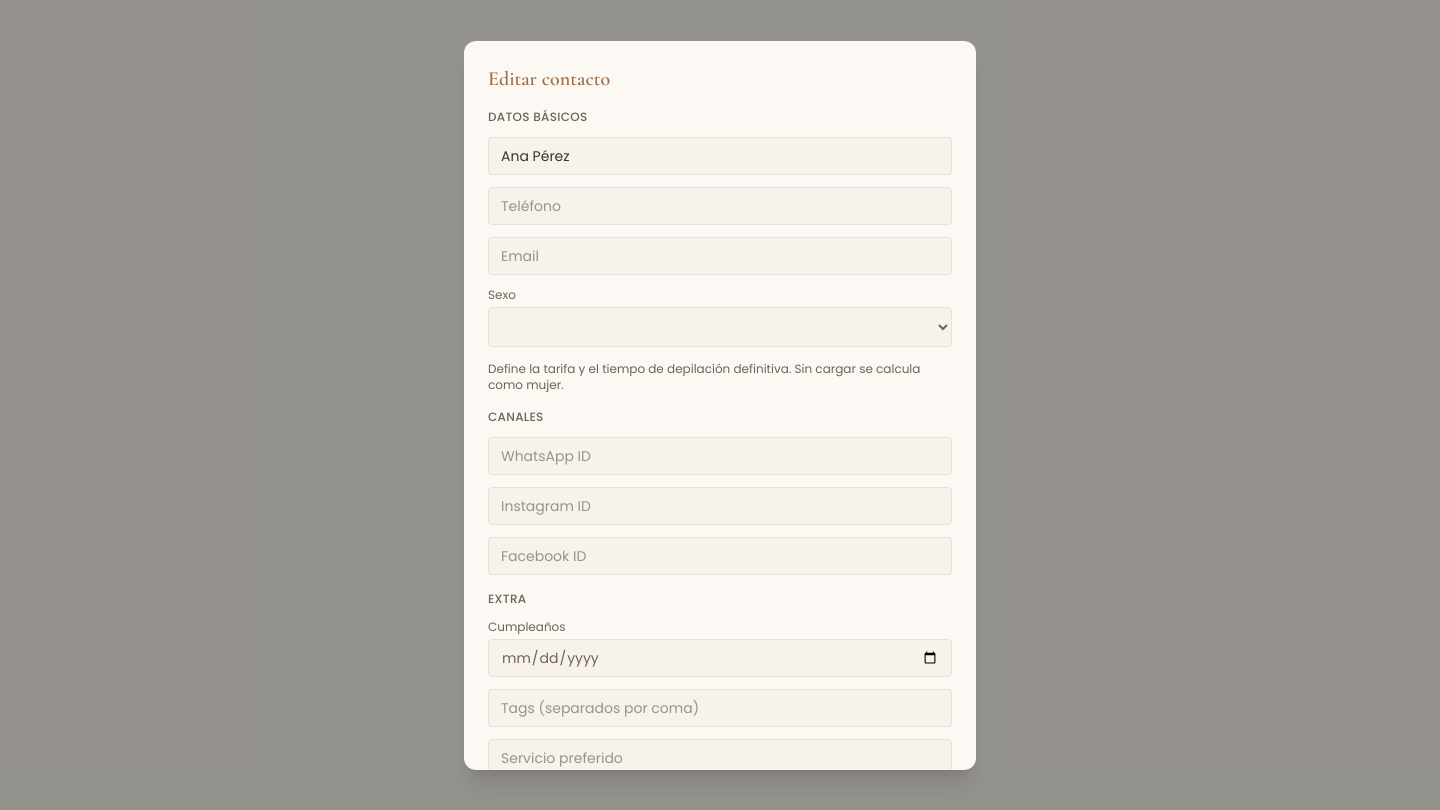
Test: ContactFormModal — aviso del número › WhatsApp ID con 15: muestra el aviso y no guarda todavía
Type "1530317884" into the field with placeholder "WhatsApp ID".
click(720, 456); type("1530317884")  # box x1=488 y1=436 x2=952 y2=474
(page scrolled)
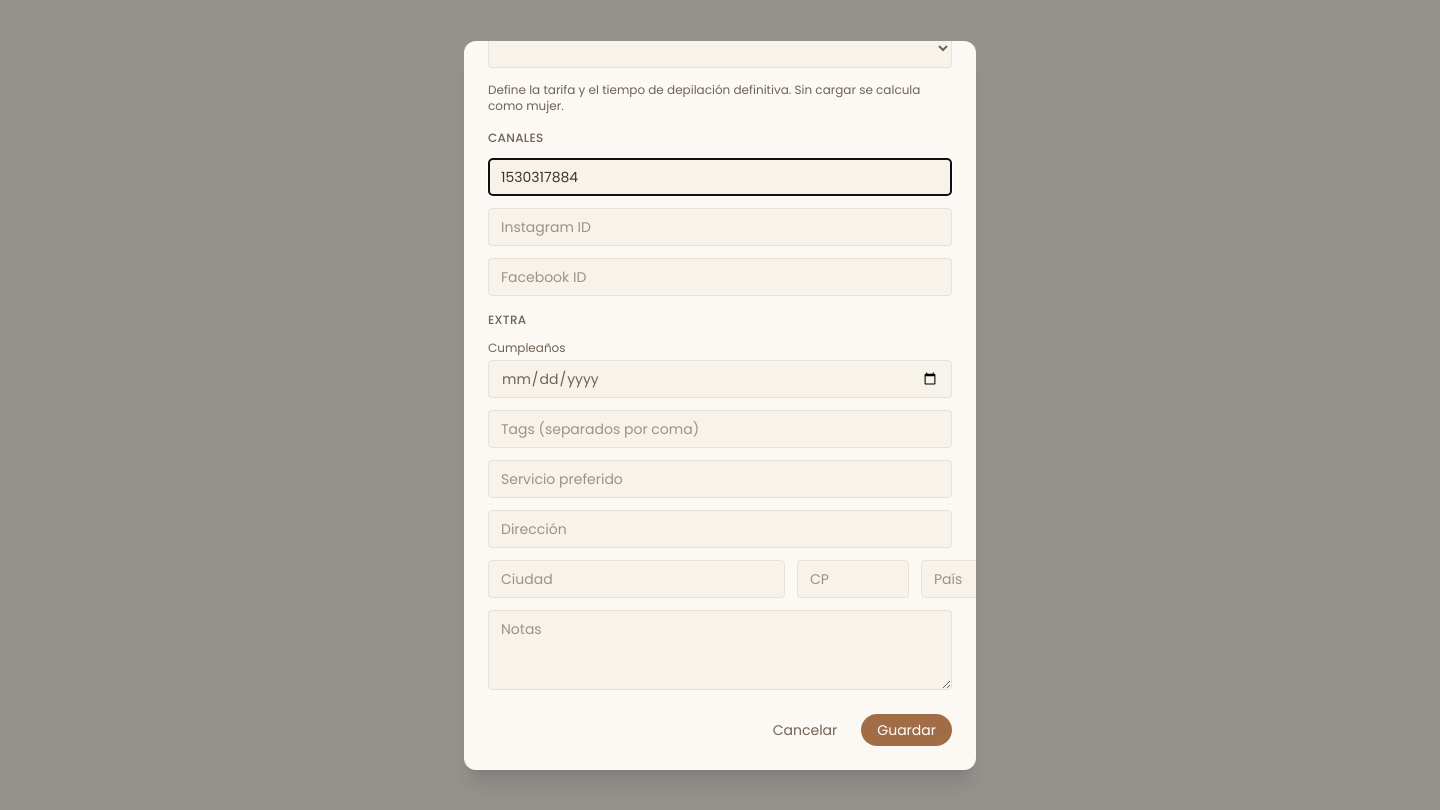
Click the button "Guardar".
click(907, 730)  # box x1=861 y1=714 x2=952 y2=746
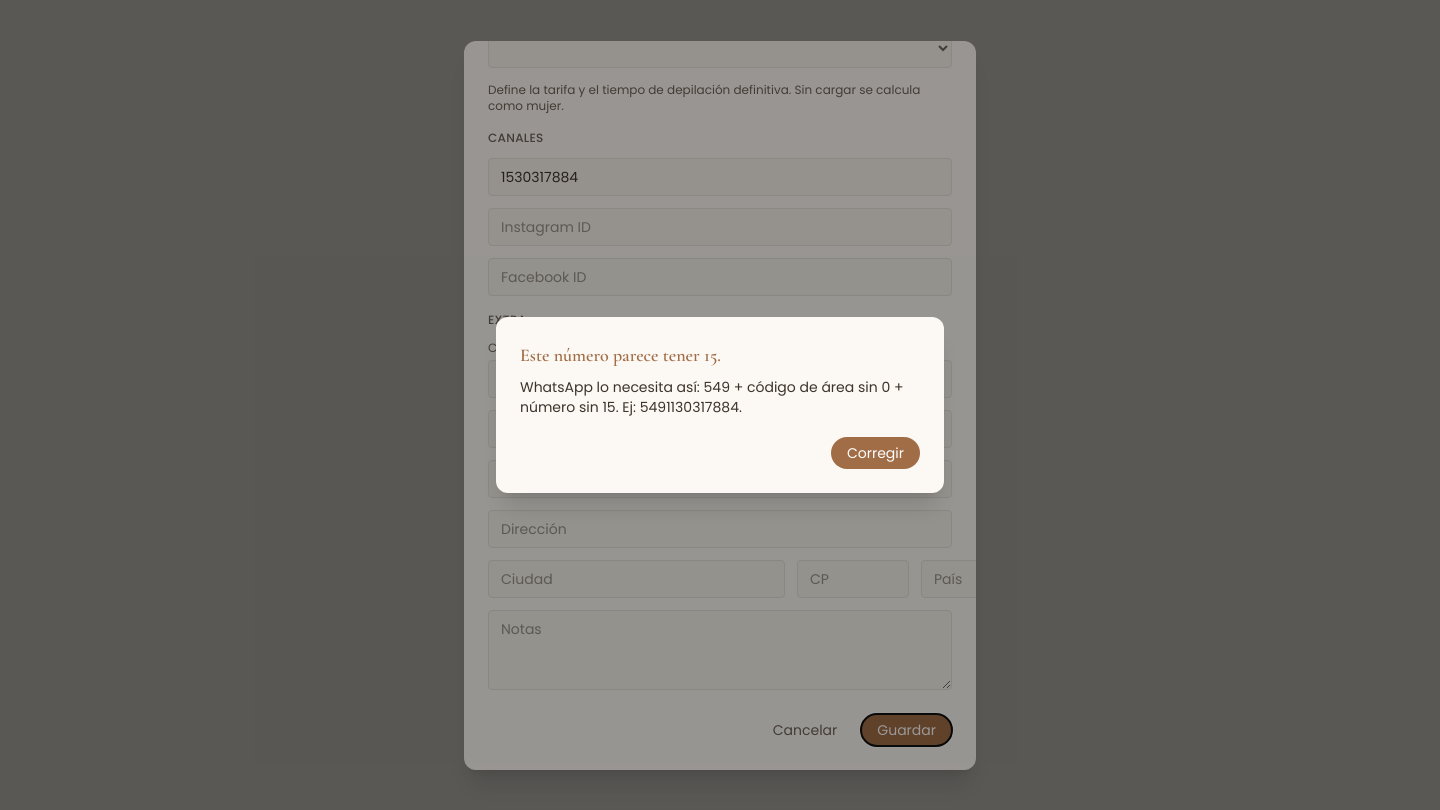
Expected: the text "WhatsApp lo necesita así: 549 + código de área sin 0 + número sin 15. Ej: 5491130317884." is shown, x1=520 y1=377 x2=904 y2=417
